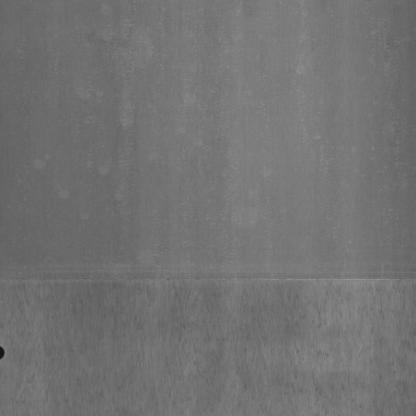punching_hole: (0, 340, 9, 362)
silk_spot: (13, 298, 415, 416)
welding_line: (0, 264, 416, 296)
